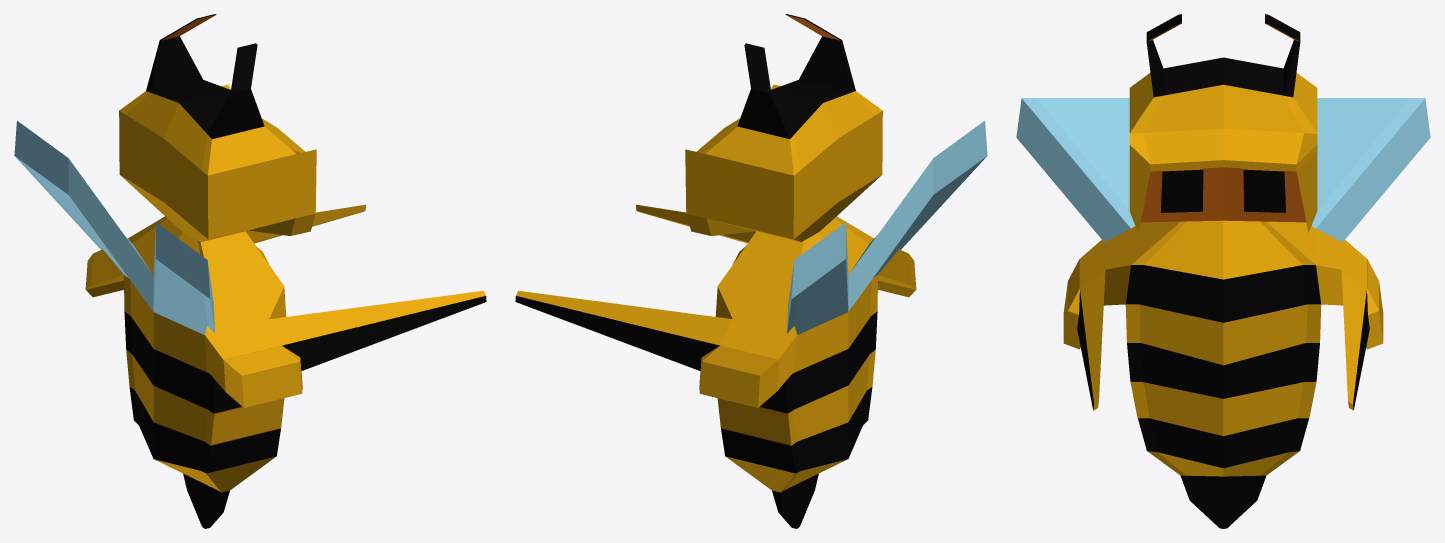
File: CONUBEE2.fbx
3 views of the same model, side by side, from view 1: azimuth 30°, elevation 25°; view 2: azimuth 150°, elevation 25°; view 3: azimuth 270°, elevation 25° (orthographic). The views are drawn at different scales.
Visible parts, largest first — view 1: Wings, Cube.000, Wings.001; view 2: Wings, Cube.000, Wings.001; view 3: Wings, Cube.000, Wings.001.
Boxes of the visible parts, x1,y1,x2,y2 form: Wings: (85,14,486,528); Cube.000: (14,120,214,334); Wings.001: (154,456,276,492); Wings: (515,14,916,528); Cube.000: (787,120,987,334); Wings.001: (725,456,847,492); Wings: (1063,14,1383,528); Cube.000: (1016,98,1430,242); Wings.001: (1147,451,1299,476).
Size of the model in its own units: 297 by 446 by 322.
